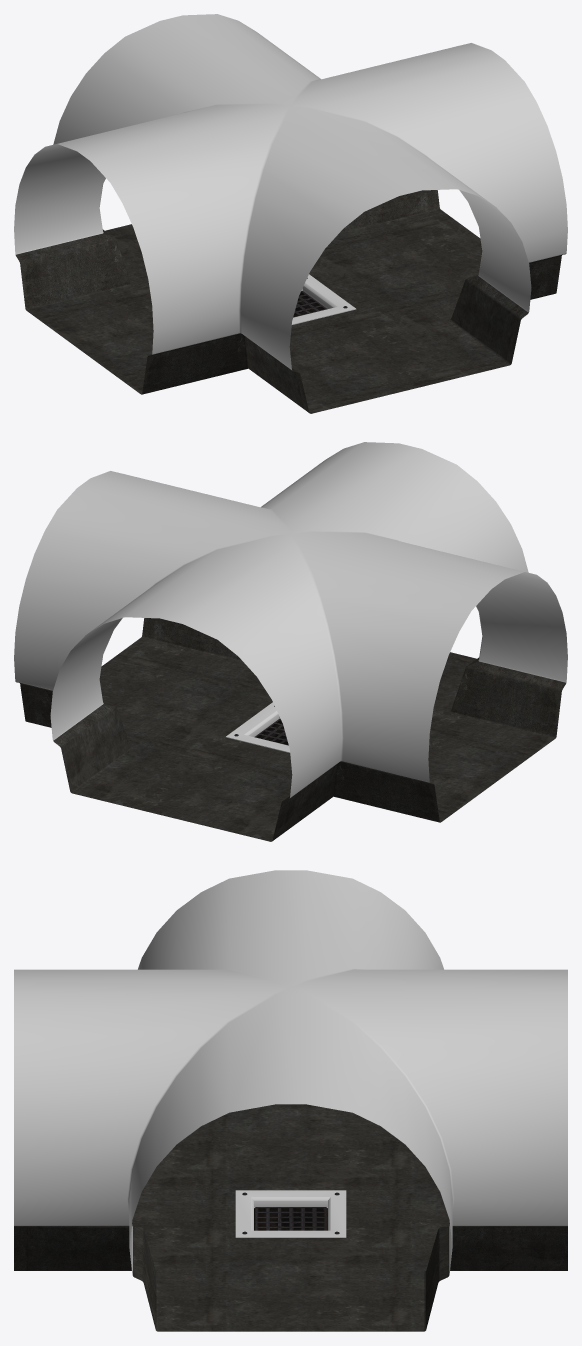
File: tunnel_junction_four_way.obj
3 renders of one model, top to bottom at view 1: azimuth 30°, elevation 25°; view 2: azimuth 150°, elevation 25°; view 3: azimuth 270°, elevation 25°, orthographic. The views are drawn at different scales.
Parts seen in each view (by area): view 1: tunnel_junction_four_way; view 2: tunnel_junction_four_way; view 3: tunnel_junction_four_way.
Part boxes in pixels (bbox=[...]): tunnel_junction_four_way: bbox=[14, 14, 567, 413]; tunnel_junction_four_way: bbox=[14, 442, 567, 841]; tunnel_junction_four_way: bbox=[14, 870, 567, 1331].
Size of the model in its own units: 6 by 2.82 by 6.
